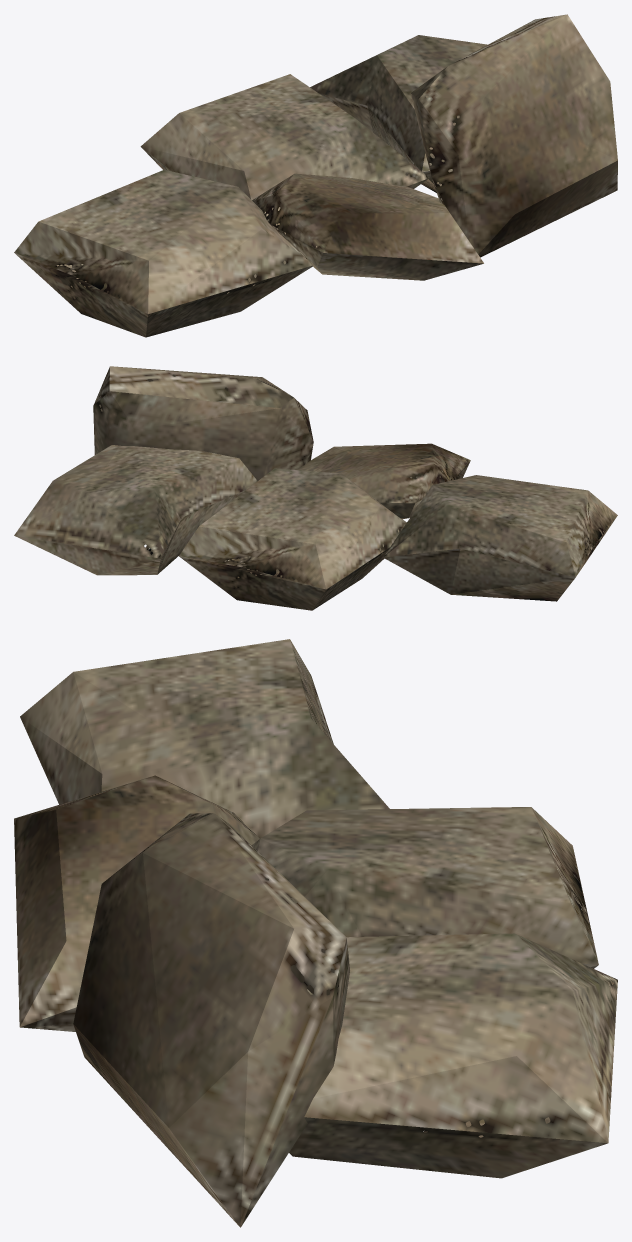
The model's file is sand2.dae.
3 views of the same model, one above another, from view 1: azimuth 30°, elevation 25°; view 2: azimuth 150°, elevation 25°; view 3: azimuth 270°, elevation 25° (orthographic). The views are drawn at different scales.
Visible parts, largest first — view 1: sand2; view 2: sand2; view 3: sand2.
Boxes of the visible parts, box(x1,y1,x2,y2) form: sand2: box(14, 14, 617, 337); sand2: box(14, 366, 617, 610); sand2: box(14, 639, 617, 1227).
Size of the model in its own units: 0.8116 by 0.2317 by 0.459.
1 material, 1 textured.
